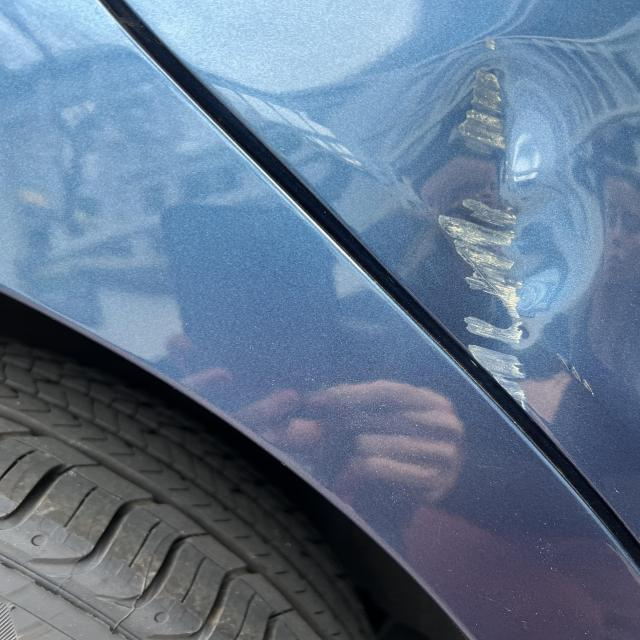dents: (397, 72, 623, 410)
